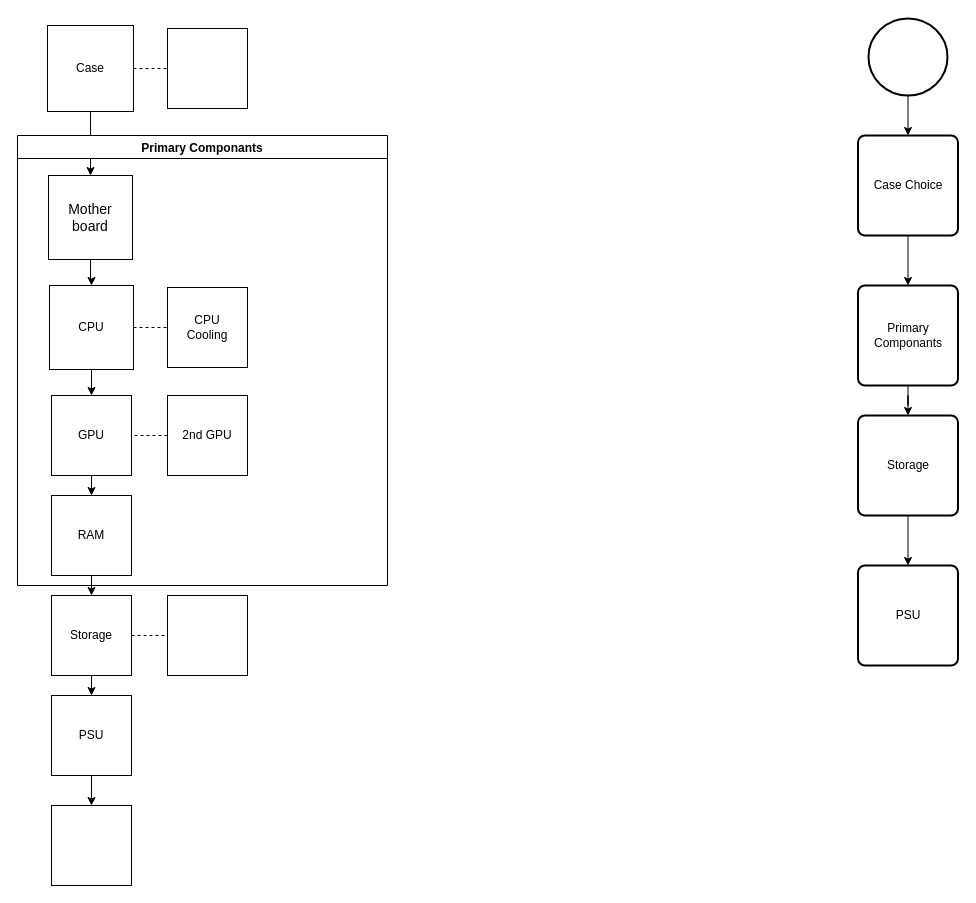
The diagram is 976 pixels wide and 903 high, and some of its shapes have lost their labels. The centre of each missing label's shape, as x and y in pixels:
Case Cooling: the point at 207,68
Extra Peripherals: the point at 91,845
RAID Config: the point at 207,635
Start: the point at 907,56
